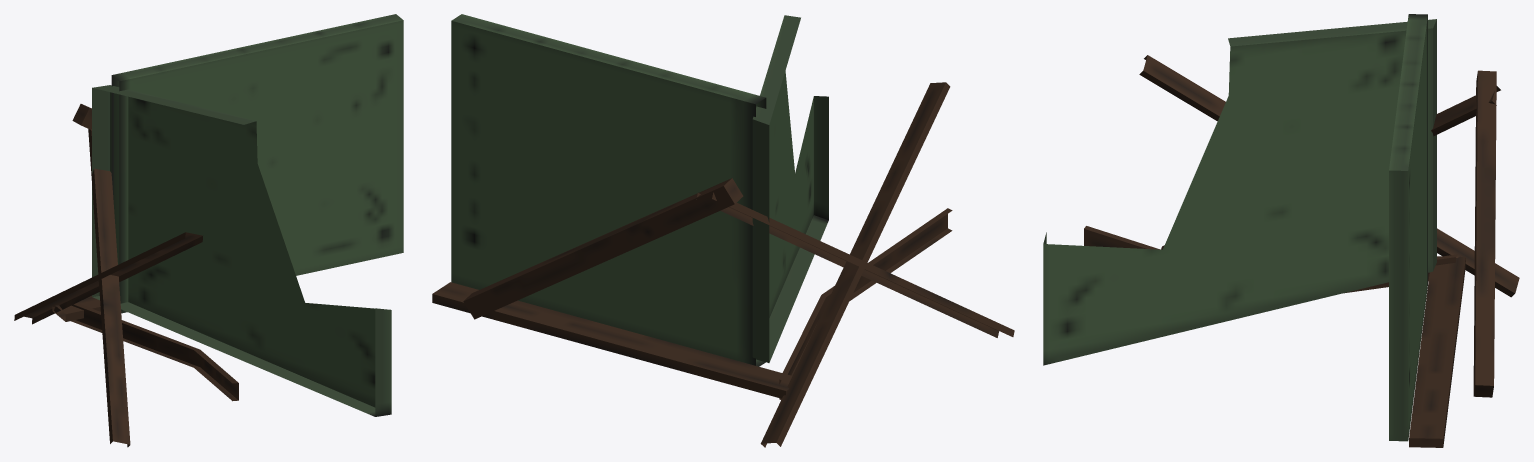
Rendered from Chair.destroyed.fbx.
The picture shows the model from 3 angles, left to right: view 1: azimuth 30°, elevation 25°; view 2: azimuth 150°, elevation 25°; view 3: azimuth 270°, elevation 25°; orthographic projection. The views are drawn at different scales.
Parts seen in each view (by area): view 1: Chair_Destr; view 2: Chair_Destr; view 3: Chair_Destr.
Boxes of the visible parts, left/top/right/bottom form: Chair_Destr: left=14, top=14, right=403, bottom=447; Chair_Destr: left=432, top=14, right=1014, bottom=447; Chair_Destr: left=1043, top=14, right=1519, bottom=447.
Bounding box in the file's own units: 0.9986 × 0.6509 × 0.9046.
Materials: 1 (1 with a texture image).
